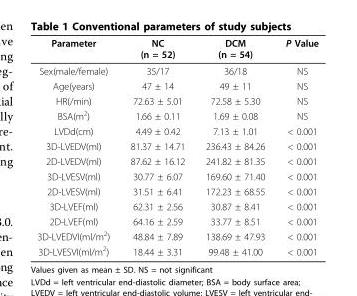table: (36, 36, 317, 256)
table column: (36, 36, 119, 256), (194, 36, 274, 256), (119, 36, 194, 256), (274, 36, 317, 256)
table column header: (36, 36, 317, 62)
table row: (36, 36, 317, 62), (36, 62, 317, 78), (36, 107, 317, 123), (36, 227, 317, 243), (36, 78, 317, 93), (36, 123, 317, 138), (36, 138, 317, 153), (36, 153, 317, 168), (36, 168, 317, 183), (36, 183, 317, 198), (36, 198, 317, 213), (36, 93, 317, 107), (36, 213, 317, 227), (36, 243, 317, 256)
